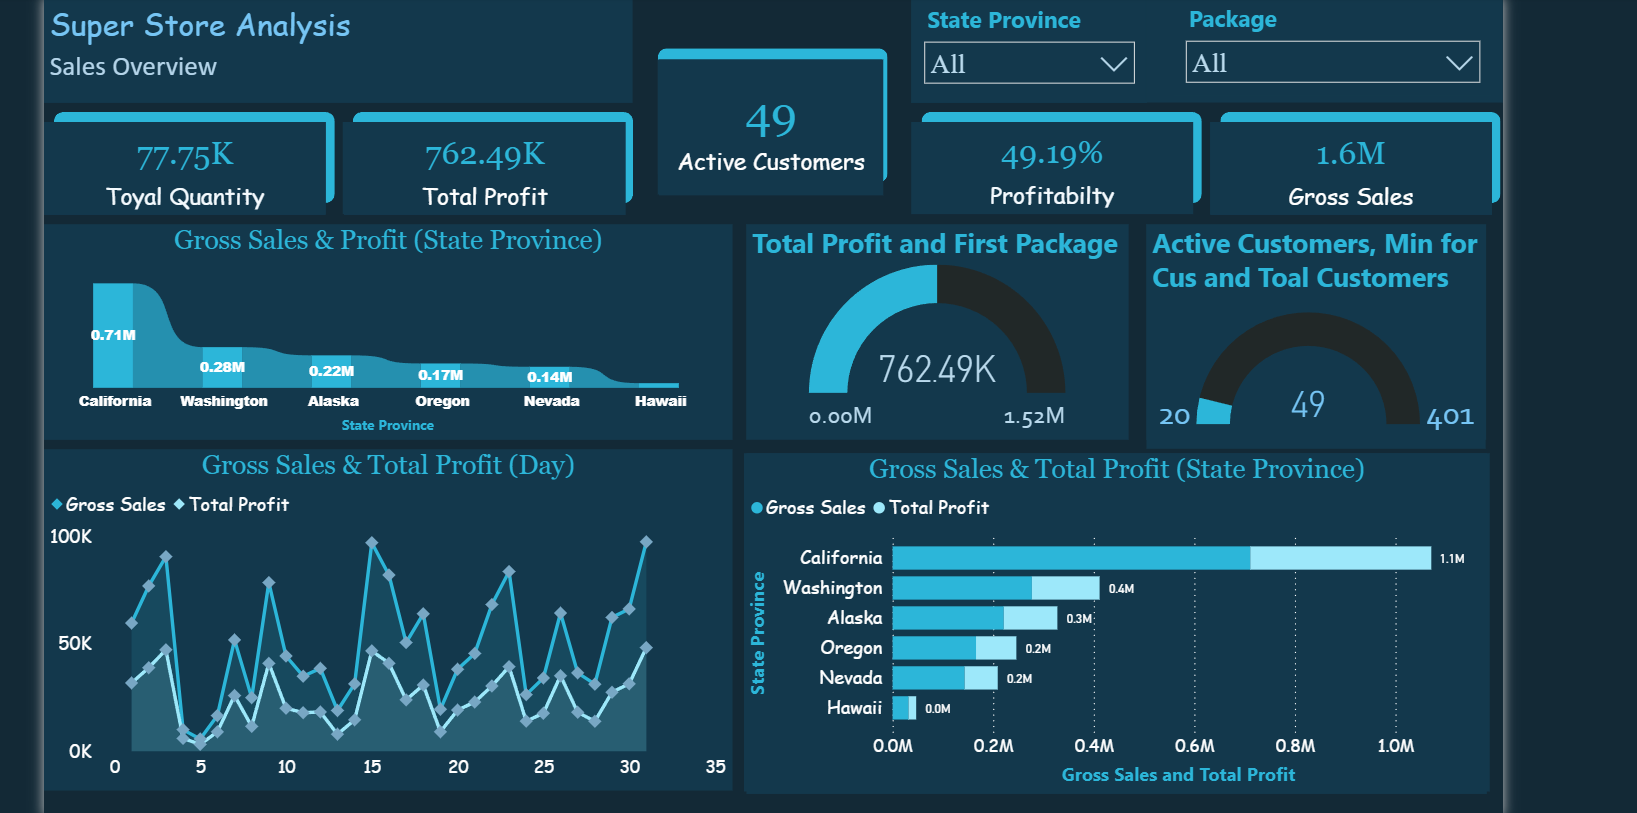

The dashboard page shown, as its layout file describes it:
{"tool":"powerbi","page":{"name":"Page 1","canvas":[1280,720],"ordinal":0},"visuals":[{"type":"shape","box":[0,0,516.5,92.6],"z":0},{"type":"group","id":"g1","title":"Group 1","box":[0,100.9,254.6,88.9],"z":1000},{"type":"group","id":"g2","title":"Group 1","box":[1023.5,100.9,255.3,89.1],"z":2000},{"type":"group","id":"g3","title":"Group 1","box":[761.1,100.9,254.1,89.1],"z":3000},{"type":"shape","box":[761.1,0,518.9,92.6],"z":4000},{"type":"shape","box":[539.1,45.1,201.8,117.7],"z":4000,"group":"g4"},{"type":"shape","box":[8.3,100.9,246.5,79.8],"z":4000,"group":"g1"},{"type":"shape","box":[270.7,100.9,246,80],"z":4000,"group":"g6"},{"type":"shape","box":[769.4,100.9,246,80],"z":4000,"group":"g3"},{"type":"shape","box":[1031.8,100.9,246,80],"z":4000,"group":"g2"},{"type":"group","id":"g4","title":"Group 1","box":[539.1,45.1,201.9,128.2],"z":5000},{"type":"group","id":"g5","title":"Group 1","box":[0,199.5,604.4,188.8],"z":6000},{"type":"shape","box":[616,199.3,335,188.5],"z":7000},{"type":"shape","box":[967.7,199.5,298,188.8],"z":8000},{"type":"group","id":"g6","title":"Group 1","box":[262.4,100.9,254.1,89.1],"z":9000},{"type":"shape","box":[539.3,54.8,197.1,118.7],"z":10000,"group":"g4"},{"type":"shape","box":[0,109.2,247.4,80.6],"z":10000,"group":"g1"},{"type":"shape","box":[262.4,109.2,247,80.7],"z":10000,"group":"g6"},{"type":"shape","box":[761.1,109.2,247,80.7],"z":10000,"group":"g3"},{"type":"shape","box":[1023.5,109.2,247,80.7],"z":10000,"group":"g2"},{"type":"shape","box":[0,199.5,604.4,188.8],"z":10000,"group":"g5"},{"type":"group","id":"g7","title":"Group 1","box":[0,397.4,604,299],"z":10000},{"type":"shape","box":[0,397.4,604,299],"z":10000,"group":"g7"},{"type":"shape","box":[616,399.8,649.6,299],"z":11000},{"type":"card","fields":{"Values":["measure table.Gross Sales"]},"box":[1023,109.3,247.4,81.7],"z":12000},{"type":"card","fields":{"Values":["measure table.Total Profit"]},"box":[263,109.3,247.4,81.7],"z":13000},{"type":"card","fields":{"Values":["measure table.Active Customers"]},"box":[539.1,55.2,196.9,118.9],"z":14000},{"type":"gauge","fields":{"Y":["measure table.Active Customers"],"MaxValue":["measure table.Toal Customers"],"MinValue":["measure table.Min for Cus"]},"box":[967.8,199.3,297.8,196.9],"z":15000},{"type":"card","fields":{"Values":["measure table.Toyal Quantity"]},"box":[0,109.3,247.4,81.7],"z":16000},{"type":"card","fields":{"Values":["measure table.Profitabilty"]},"box":[761.3,109.3,247.4,80.5],"z":17000},{"type":"barChart","title":"Gross Sales & Total Profit (State Province)","fields":{"Y":["measure table.Gross Sales","measure table.Total Profit"],"Category":["DimCity - DimCity (1).State Province"]},"box":[614.8,399.8,654.4,296.6],"z":18000},{"type":"lineChart","title":"Gross Sales & Total Profit (Day)","fields":{"Y":["measure table.Gross Sales","measure table.Total Profit"],"Category":["DimDate - DimDate.Date.Variation.Date Hierarchy.Year","DimDate - DimDate.Date.Variation.Date Hierarchy.Quarter","DimDate - DimDate.Date.Variation.Date Hierarchy.Month","DimDate - DimDate.Date.Variation.Date Hierarchy.Day"]},"box":[0,397.4,604,299],"z":19000},{"type":"ribbonChart","title":"Gross Sales & Profit (State Province)","fields":{"Category":["DimCity - DimCity (1).State Province"],"Y":["measure table.Gross Sales"]},"box":[0,199.3,604,188.5],"z":20000},{"type":"slicer","fields":{"Values":["DimCity - DimCity (1).State Province"]},"box":[761.3,0,206.5,92.5],"z":21000},{"type":"textbox","box":[0,0,516.3,92.5],"z":22000},{"type":"slicer","fields":{"Values":["FactSale - FactSale.Package"]},"box":[991.8,0,278.6,86.5],"z":23000},{"type":"gauge","fields":{"Y":["measure table.Total Profit"]},"box":[616,199.3,335,188.5],"z":24000}]}

Visuals, with their boxes on the page's 1280x720 design canvas (x1, y1, x2, y2). These are canvas units, not pixel positions in the 1637x813 screenshot, which may show the page scaled, cropped or inside an application window:
shape: region(0, 0, 516, 93)
"Group 1" group: region(0, 101, 255, 190)
"Group 1" group: region(1024, 101, 1279, 190)
"Group 1" group: region(761, 101, 1015, 190)
shape: region(761, 0, 1280, 93)
shape: region(539, 45, 741, 163)
shape: region(8, 101, 255, 181)
shape: region(271, 101, 517, 181)
shape: region(769, 101, 1015, 181)
shape: region(1032, 101, 1278, 181)
"Group 1" group: region(539, 45, 741, 173)
"Group 1" group: region(0, 200, 604, 388)
shape: region(616, 199, 951, 388)
shape: region(968, 200, 1266, 388)
"Group 1" group: region(262, 101, 516, 190)
shape: region(539, 55, 736, 174)
shape: region(0, 109, 247, 190)
shape: region(262, 109, 509, 190)
shape: region(761, 109, 1008, 190)
shape: region(1024, 109, 1270, 190)
shape: region(0, 200, 604, 388)
"Group 1" group: region(0, 397, 604, 696)
shape: region(0, 397, 604, 696)
shape: region(616, 400, 1266, 699)
card - measure table.Gross Sales: region(1023, 109, 1270, 191)
card - measure table.Total Profit: region(263, 109, 510, 191)
card - measure table.Active Customers: region(539, 55, 736, 174)
gauge - measure table.Active Customers x measure table.Toal Customers: region(968, 199, 1266, 396)
card - measure table.Toyal Quantity: region(0, 109, 247, 191)
card - measure table.Profitabilty: region(761, 109, 1009, 190)
"Gross Sales & Total Profit (State Province)" barChart: region(615, 400, 1269, 696)
"Gross Sales & Total Profit (Day)" lineChart: region(0, 397, 604, 696)
"Gross Sales & Profit (State Province)" ribbonChart: region(0, 199, 604, 388)
slicer - DimCity - DimCity (1).State Province: region(761, 0, 968, 92)
textbox: region(0, 0, 516, 92)
slicer - FactSale - FactSale.Package: region(992, 0, 1270, 86)
gauge - measure table.Total Profit: region(616, 199, 951, 388)
